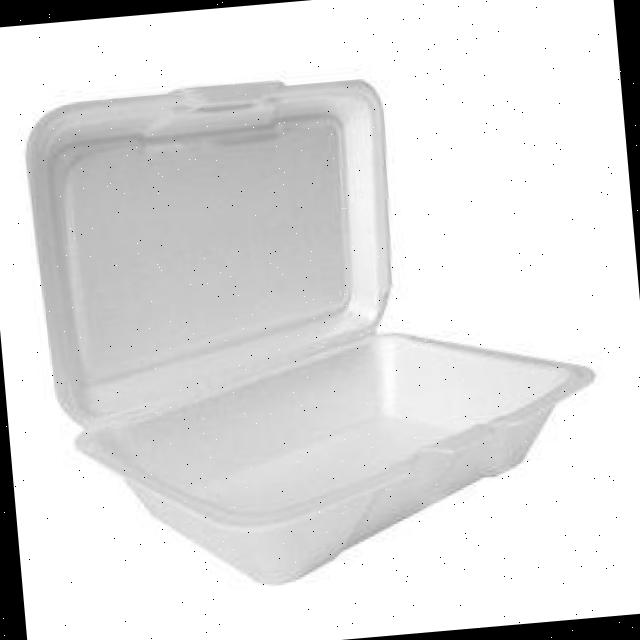styrofoam: (18, 50, 610, 604)
